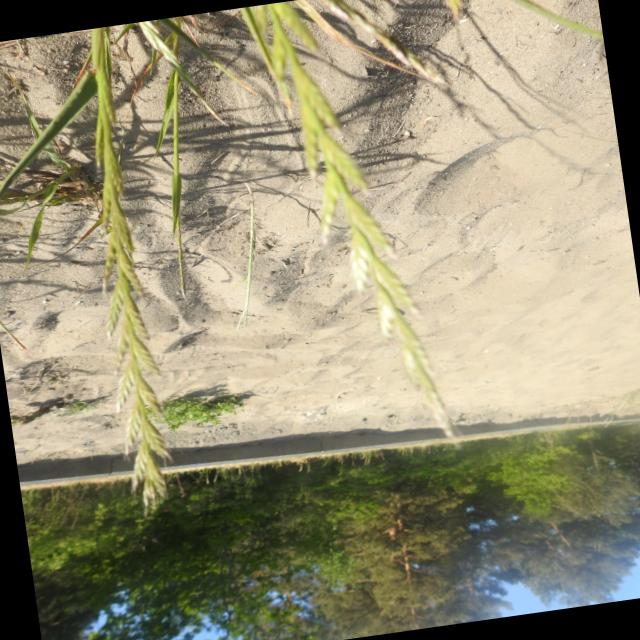Lolium: (251, 0, 464, 464), (33, 22, 212, 520)
